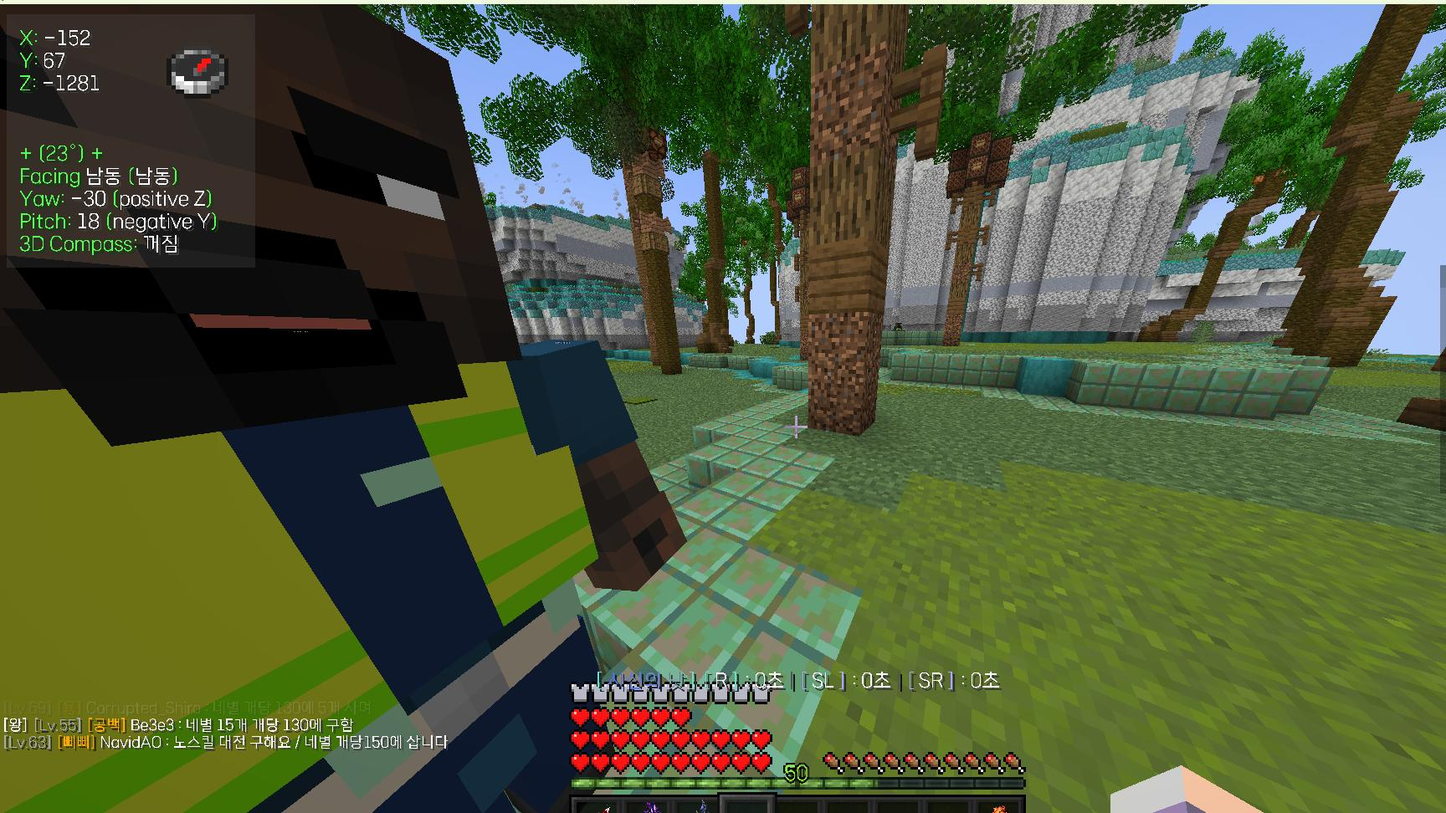Guardian: (183, 5, 684, 710)
